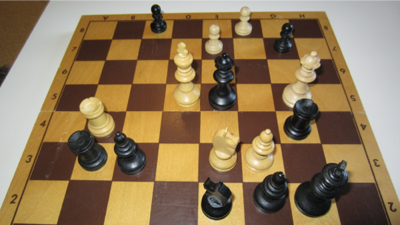black-bishop: (253, 171, 289, 215), (114, 132, 148, 175)
black-king: (294, 160, 350, 218), (201, 177, 234, 221)
black-pawn: (274, 23, 294, 54), (151, 4, 168, 34)
black-queen: (208, 53, 238, 111)
black-rook: (68, 130, 109, 173), (283, 98, 320, 141)
white-bishop: (244, 129, 276, 174)
white-king: (173, 42, 202, 109)
white-knight: (209, 127, 241, 174)
white-pawn: (205, 24, 224, 55), (235, 7, 253, 36)
white-queen: (282, 51, 322, 110)
white-rook: (79, 97, 116, 138)
